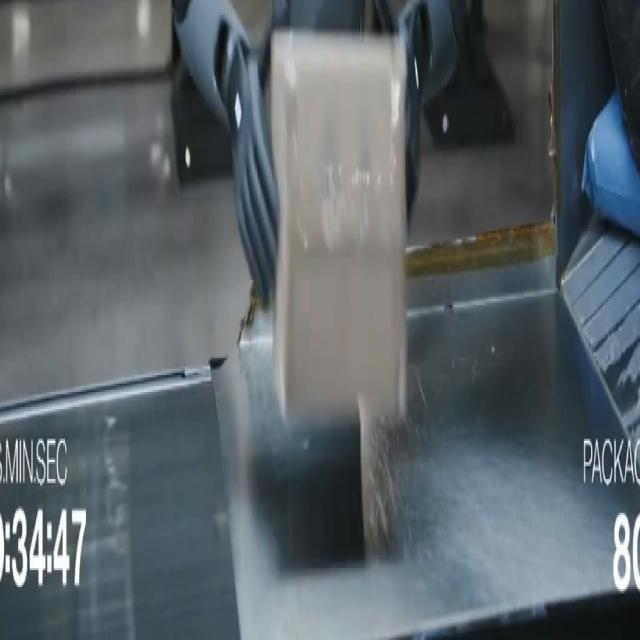package: (271, 32, 407, 417), (583, 92, 639, 237), (602, 0, 639, 167)
